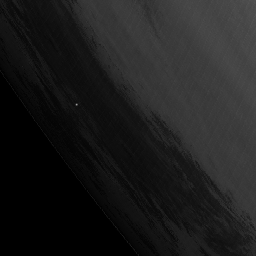Target: (74, 101, 80, 106)
